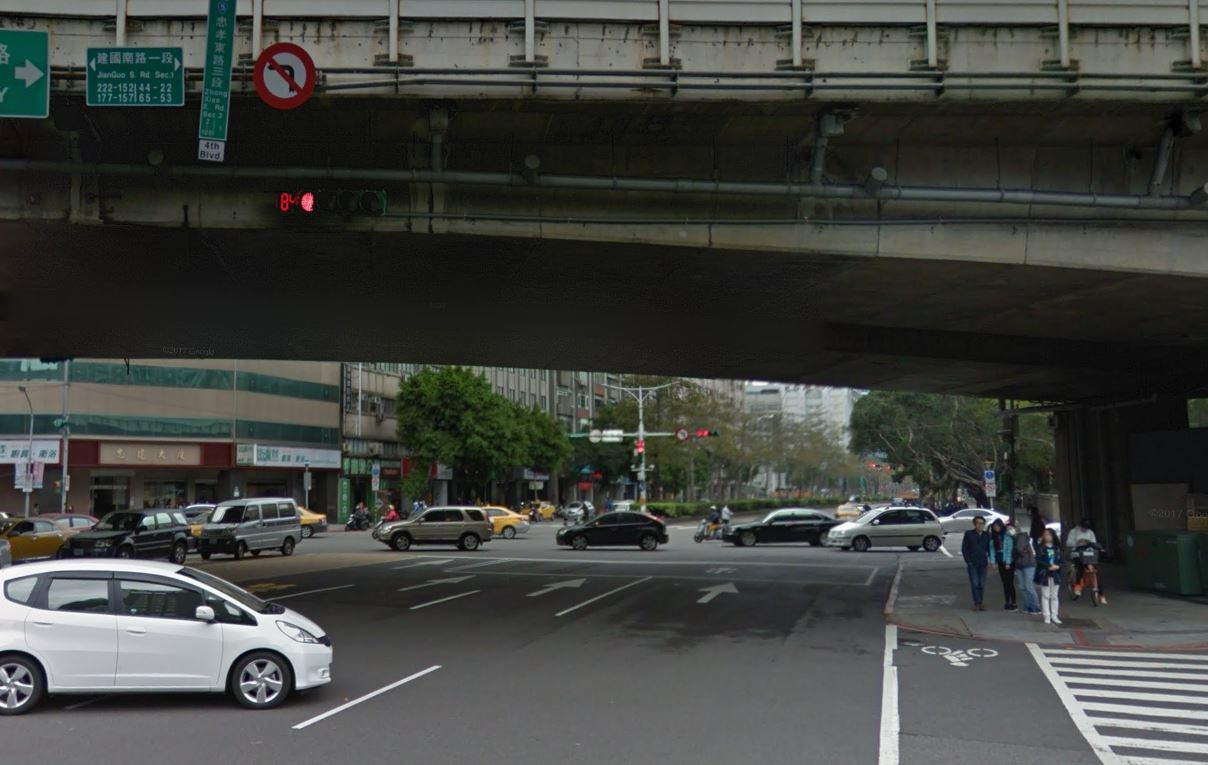No_left_turn: (251, 44, 317, 109)
Traffic_light_red: (278, 190, 382, 215)
